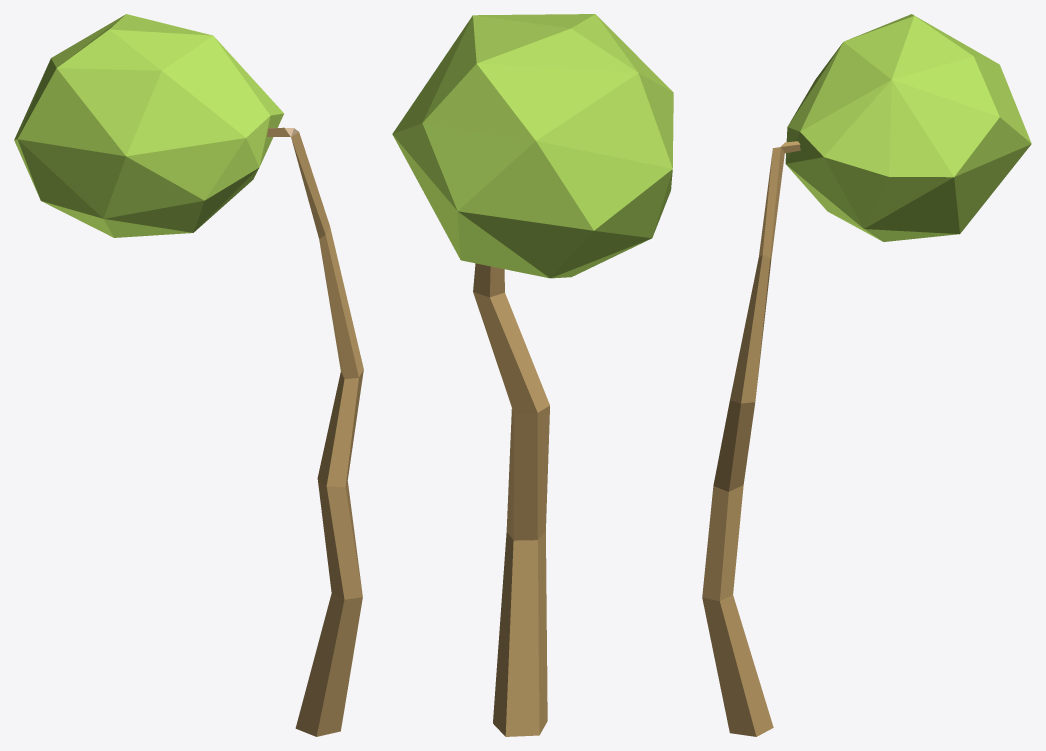
File: Simple_Tree_crk_s_01_LOD.fbx
The picture shows the model from 3 angles, left to right: view 1: azimuth 30°, elevation 25°; view 2: azimuth 150°, elevation 25°; view 3: azimuth 270°, elevation 25°; orthographic projection. The views are drawn at different scales.
Visible parts, largest first — view 1: Simple_Tree_crk_s_01_LOD0; view 2: Simple_Tree_crk_s_01_LOD0; view 3: Simple_Tree_crk_s_01_LOD0.
Boxes of the visible parts, x1=… form: Simple_Tree_crk_s_01_LOD0: x1=14, y1=14, x2=363, y2=736; Simple_Tree_crk_s_01_LOD0: x1=392, y1=14, x2=673, y2=736; Simple_Tree_crk_s_01_LOD0: x1=702, y1=14, x2=1031, y2=736.
Size of what is drawn, in the model's own units: 119 by 300 by 137.
